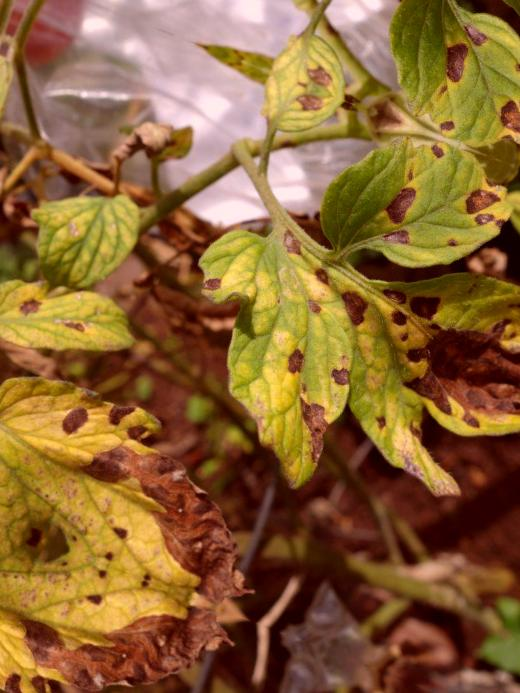Tomato leaf bacterial spot: (0, 337, 317, 624), (139, 195, 403, 497), (303, 113, 520, 311), (11, 163, 150, 305), (0, 254, 143, 390)
